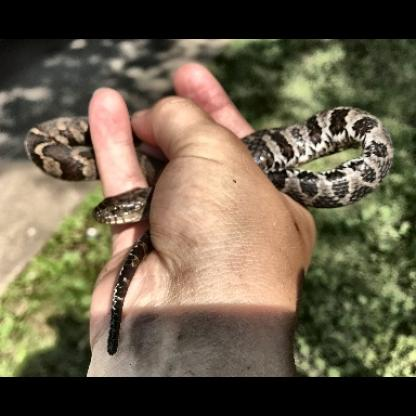Snake: (13, 72, 416, 356), (9, 73, 191, 269), (232, 69, 408, 227)
